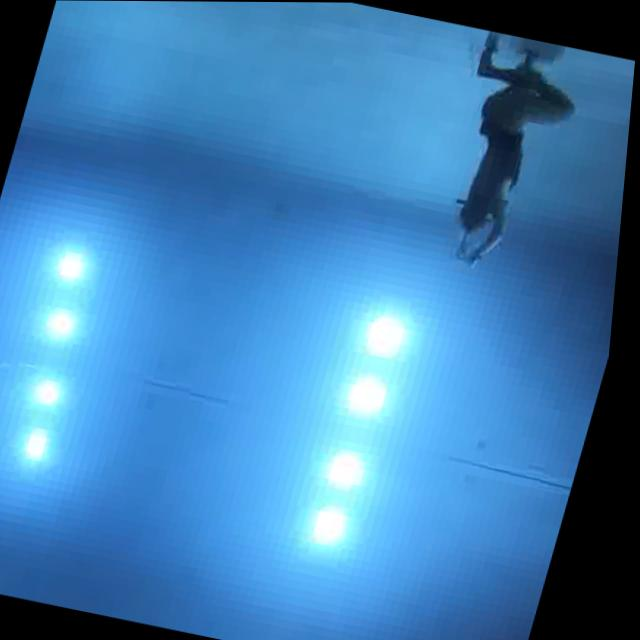human: (418, 28, 600, 285)
